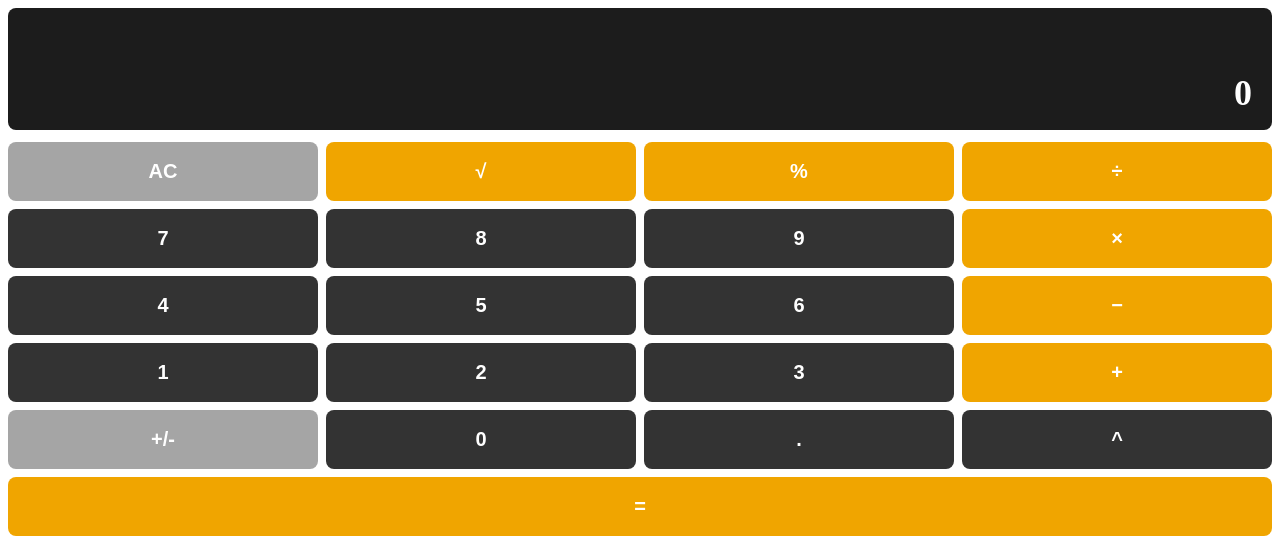
Test: Calculator › clears display when AC is pressed
Click the button "5" at (481, 306), box [326,276,636,335]
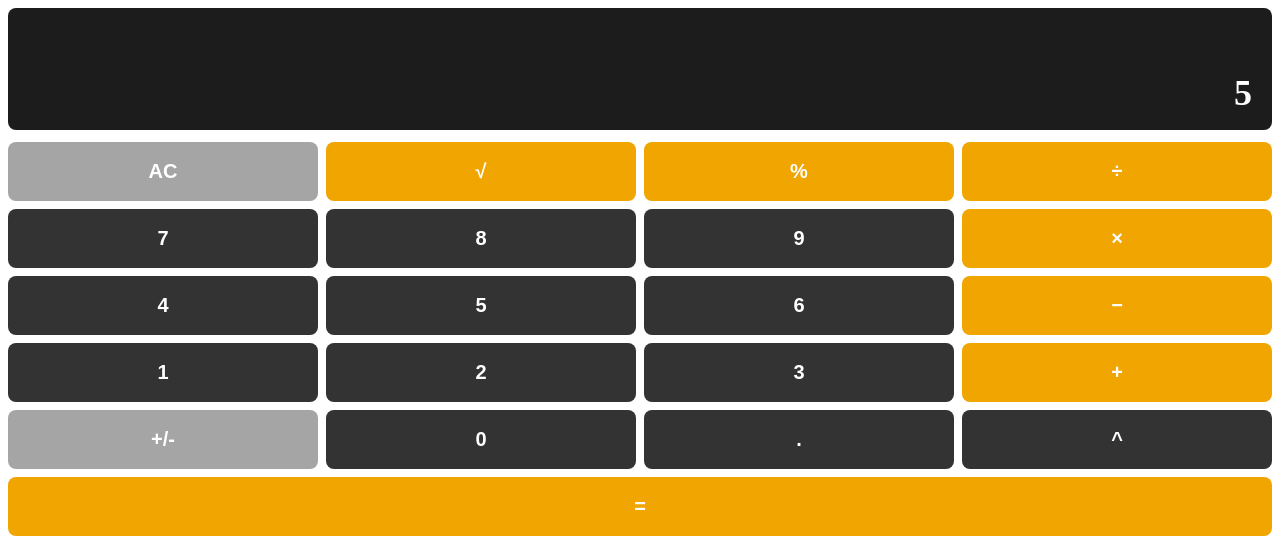
Click the button "AC" at (163, 172), box [8,142,318,201]
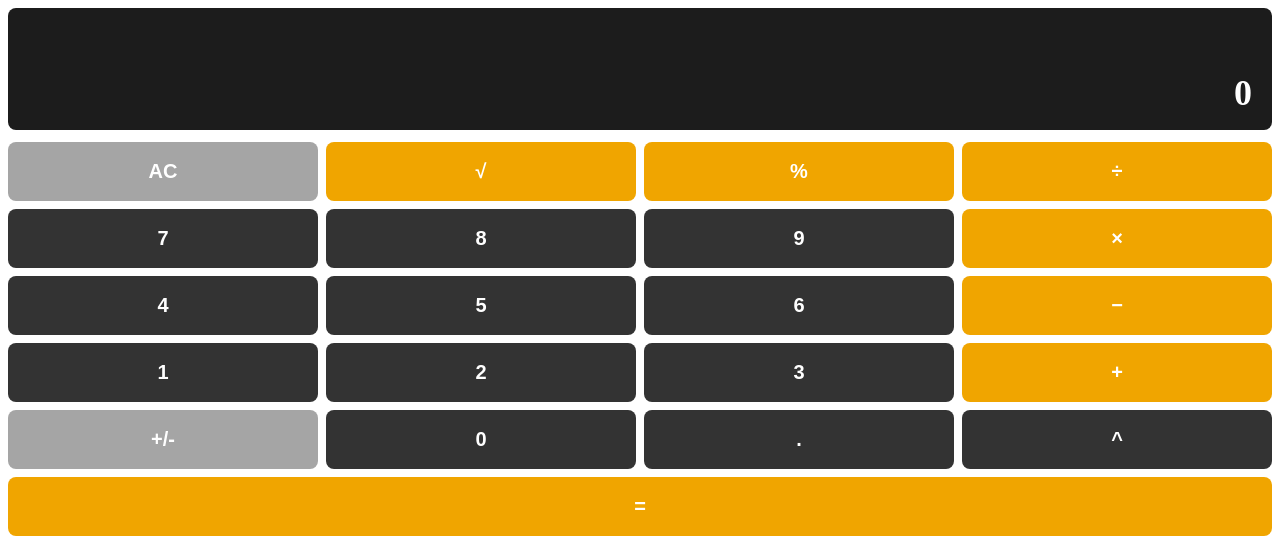
Result: the text "0" is shown at [1234,72,1252,114]
